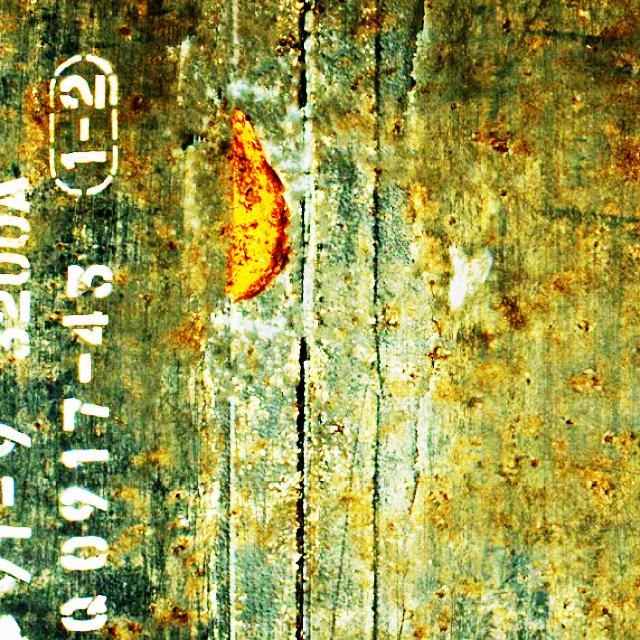Corrosion: (226, 108, 293, 300)
